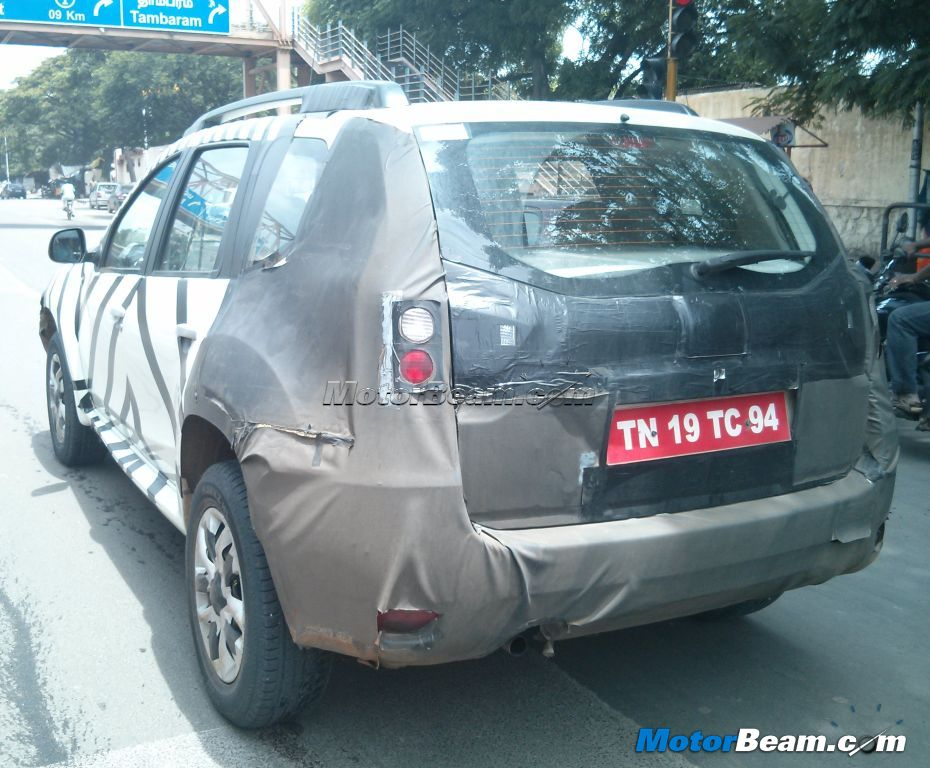number_plate: (595, 382, 821, 470)
